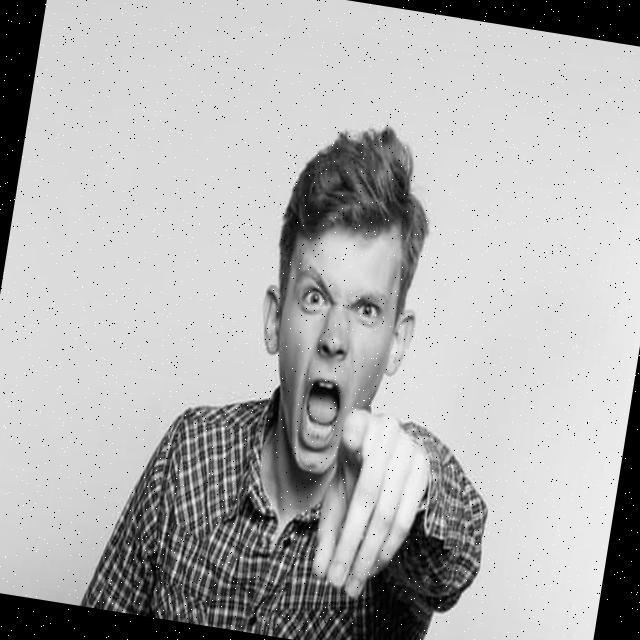Angry: (259, 218, 408, 482)
